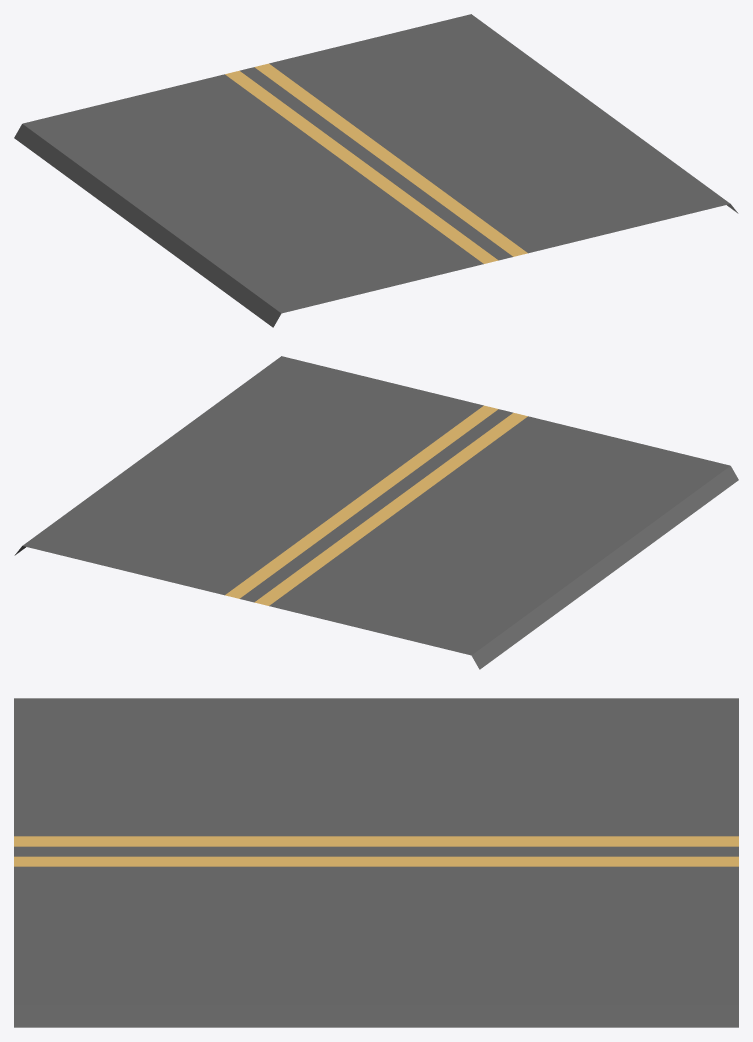
The model's file is Calle_Recta.fbx.
3 renders of one model, top to bottom at view 1: azimuth 30°, elevation 25°; view 2: azimuth 150°, elevation 25°; view 3: azimuth 270°, elevation 25°, orthographic. The views are drawn at different scales.
Parts seen in each view (by area): view 1: Calle_Recta; view 2: Calle_Recta; view 3: Calle_Recta.
Boxes of the visible parts, x1,y1,x2,y2 form: Calle_Recta: (14,14,738,327); Calle_Recta: (14,356,738,669); Calle_Recta: (14,698,738,1027).
Bounding box in the file's own units: 311 × 7.9 × 300.
